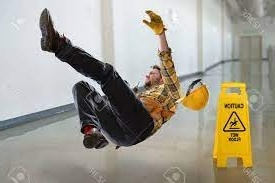fall: (36, 7, 184, 154)
